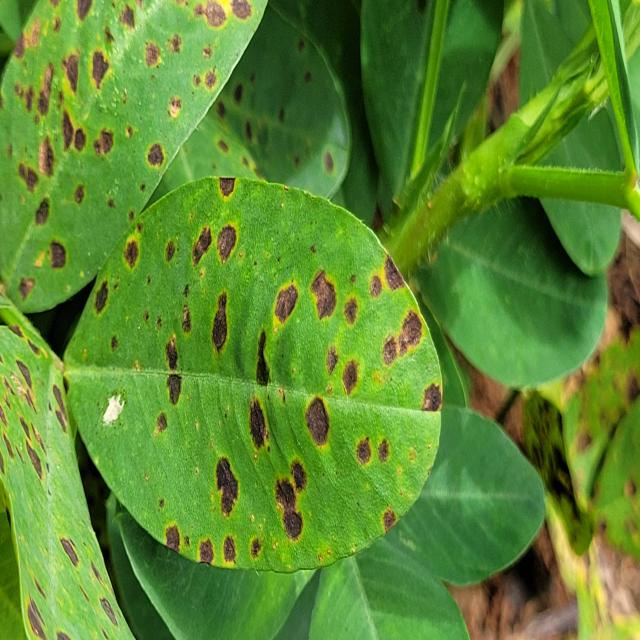Ground nut_healthy: (409, 158, 616, 388)
Ground nut_tikka leaf spot: (61, 168, 449, 575), (0, 2, 270, 311), (263, 0, 269, 7)
